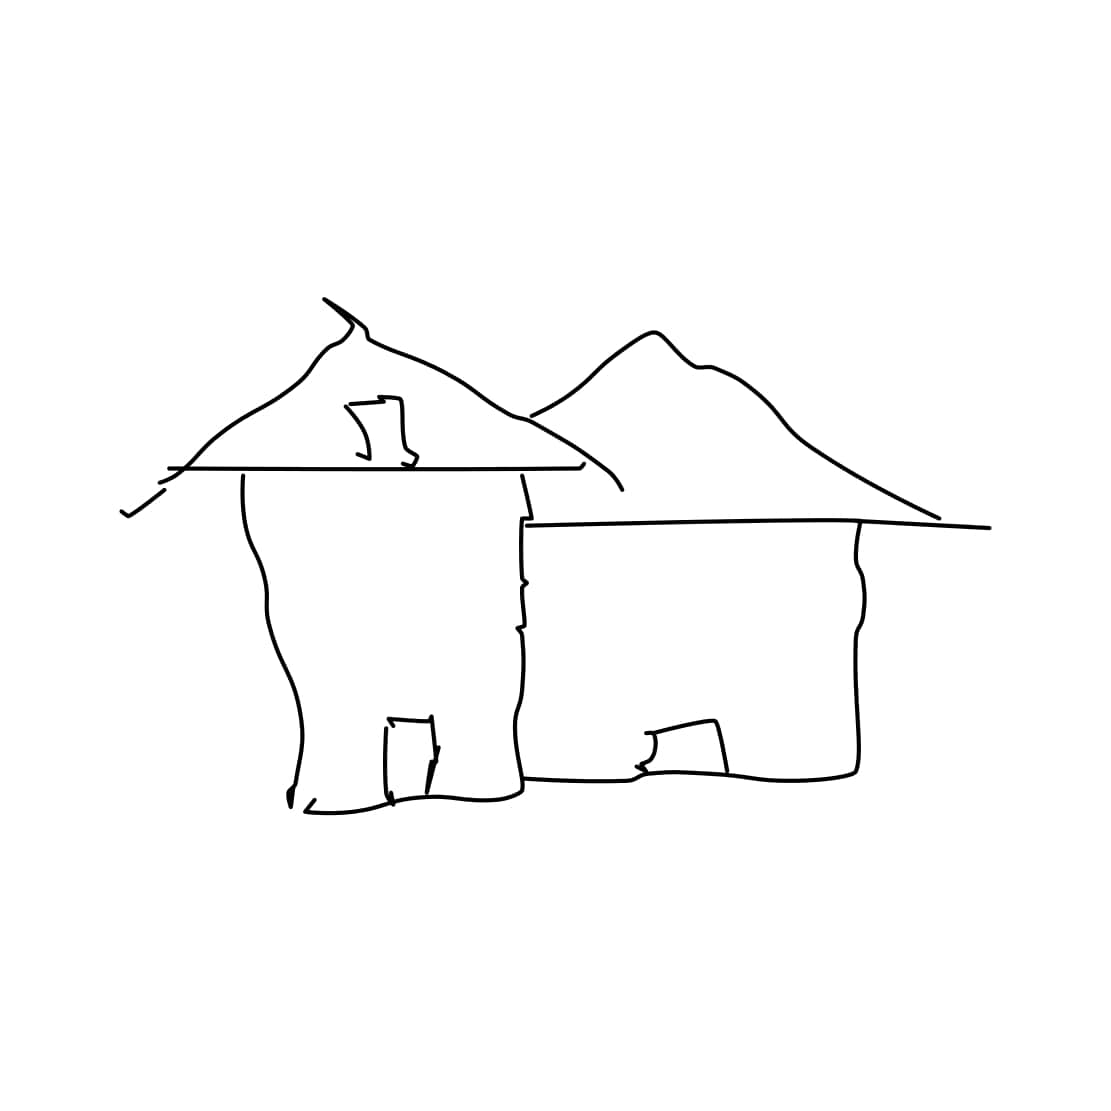House: (131, 271, 993, 829)
